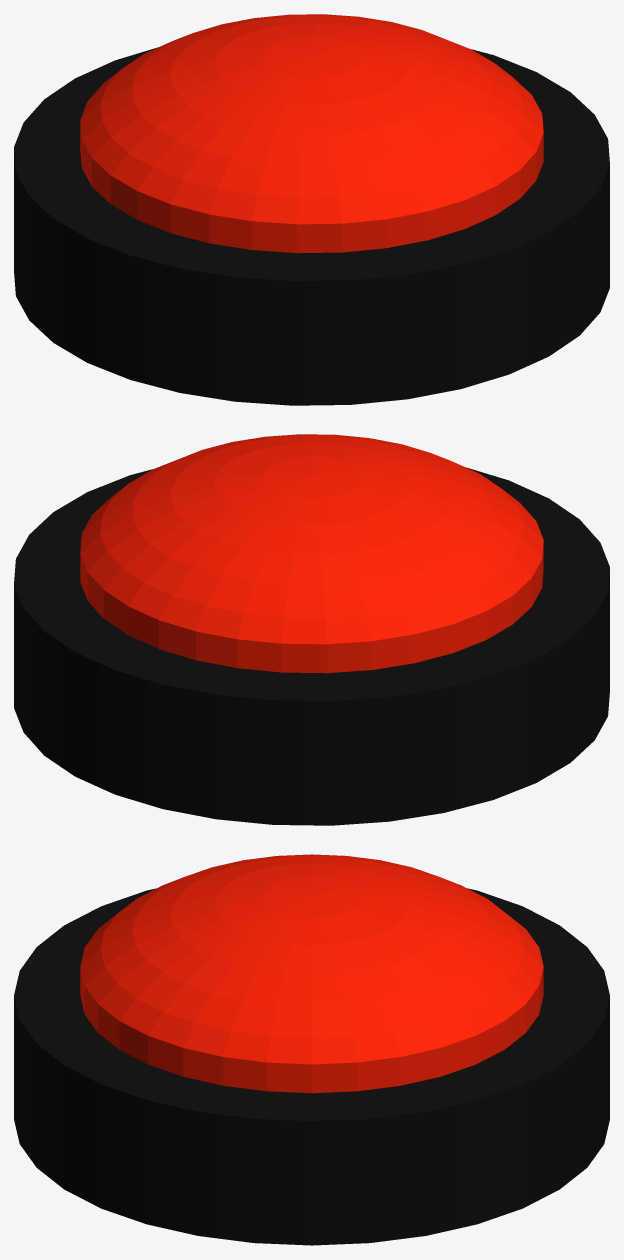
The model's file is button-lfc.glb.
The picture shows the model from 3 angles, top to bottom: view 1: azimuth 30°, elevation 25°; view 2: azimuth 150°, elevation 25°; view 3: azimuth 270°, elevation 25°; orthographic projection.
Parts seen in each view (by area): view 1: button-lfc, top-shpere, top-outside; view 2: button-lfc, top-shpere, top-outside; view 3: button-lfc, top-shpere, top-outside.
Boxes of the visible parts, bbox=[...] form: button-lfc: bbox=[14, 47, 609, 405]; top-shpere: bbox=[80, 14, 543, 224]; top-outside: bbox=[80, 123, 543, 253]; button-lfc: bbox=[14, 467, 609, 825]; top-shpere: bbox=[80, 434, 543, 644]; top-outside: bbox=[80, 543, 543, 673]; button-lfc: bbox=[14, 888, 609, 1245]; top-shpere: bbox=[80, 854, 543, 1064]; top-outside: bbox=[80, 967, 543, 1093].
Bounding box in the file's own units: 0.09 × 0.0374 × 0.09.
